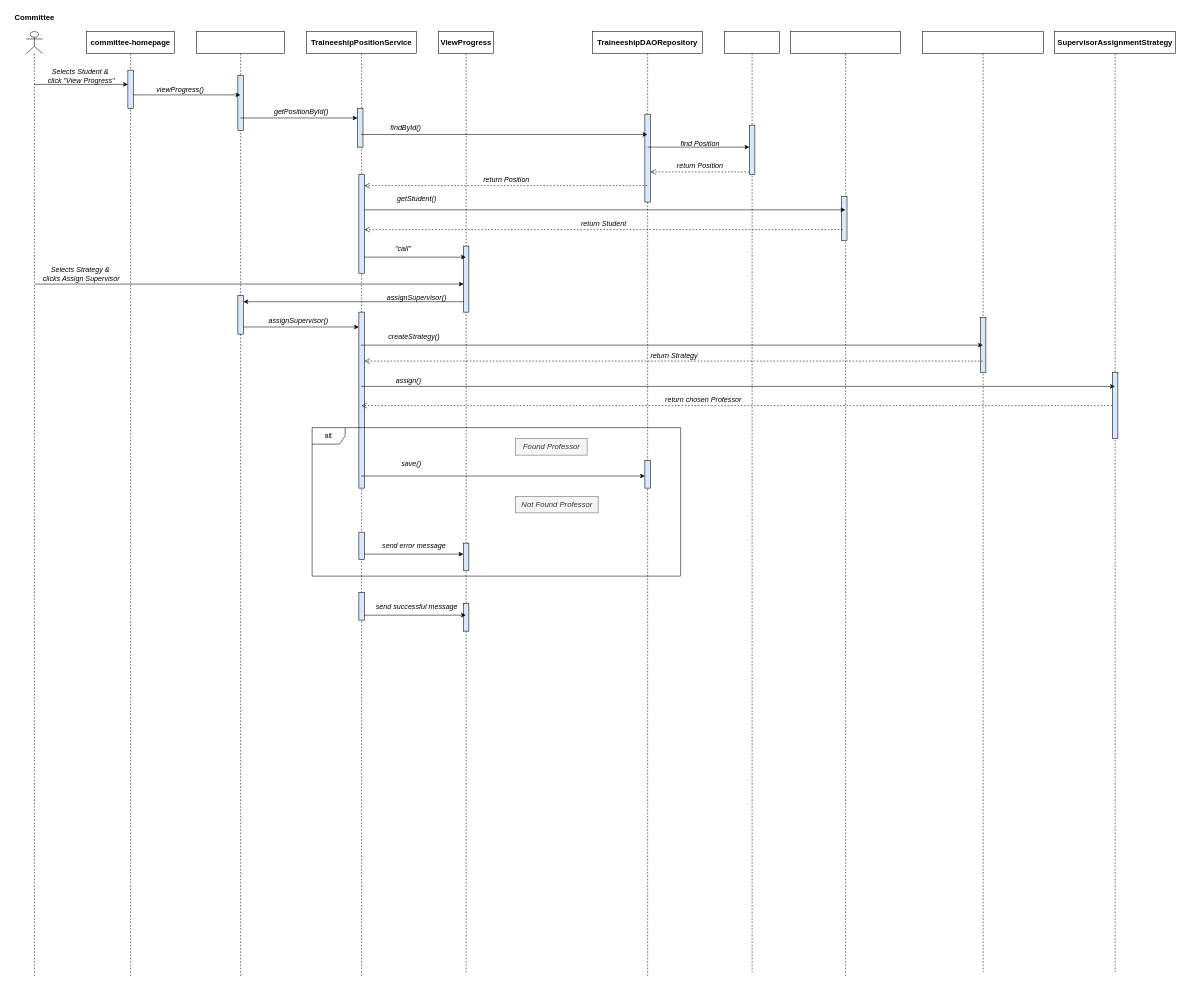
The diagram is 1185 pixels wide and 987 high, and some of its shapes have lost their labels. Each missing label, with the box of its shape:
CommitteeController: (196, 31, 285, 978)
Database (MySQL): (724, 31, 780, 972)
SupervisorAssignmentFactory: (922, 31, 1044, 972)
TraineeshipPosition: (790, 31, 901, 978)
